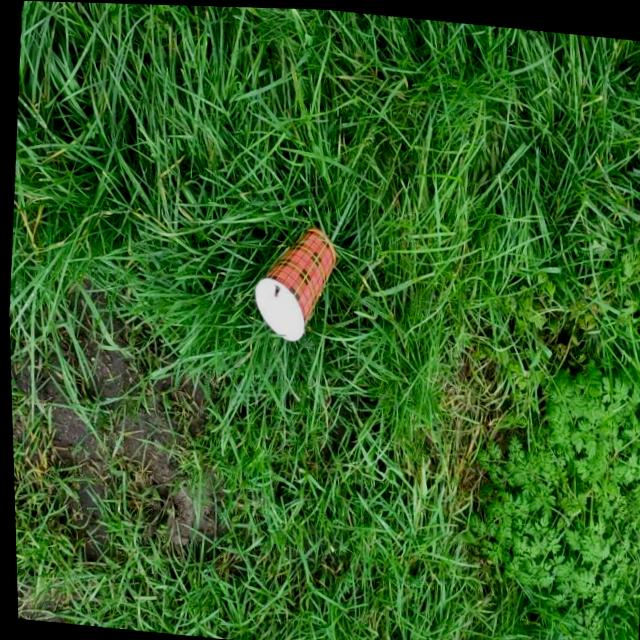Cup: (246, 218, 340, 345)
